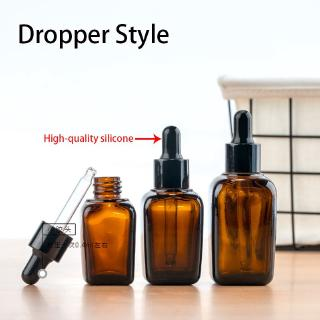glass_bottle: (205, 108, 278, 290), (140, 124, 204, 288), (80, 174, 137, 288)
